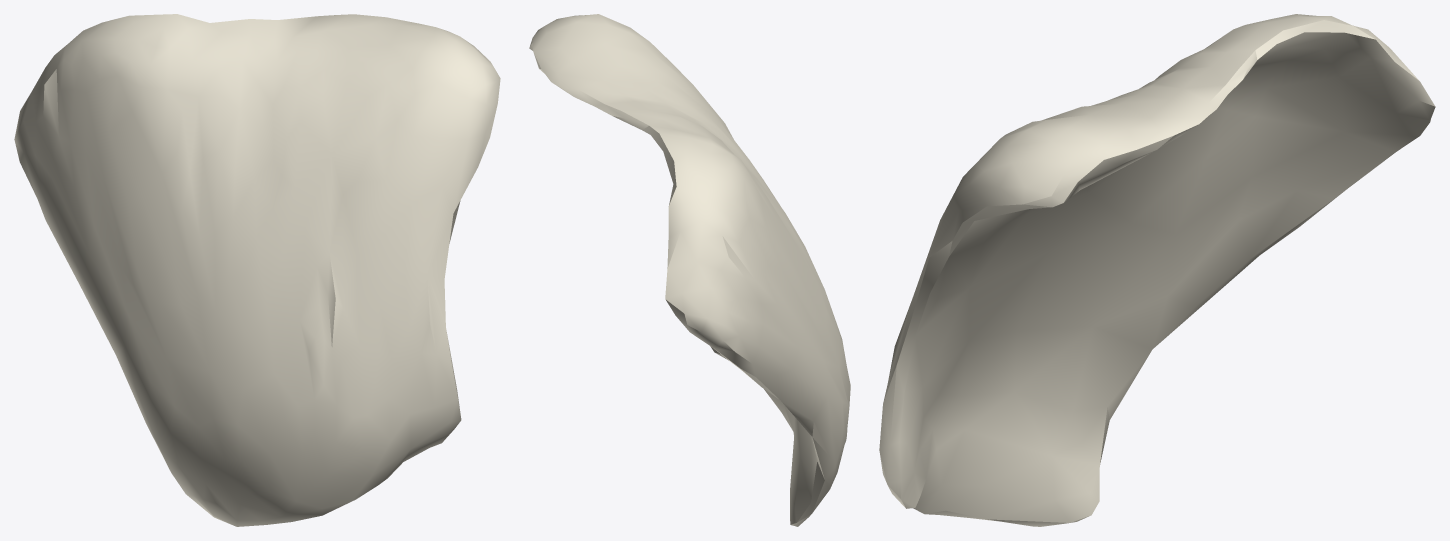
File: fma326794-r_mm1461m.glb
3 views of the same model, side by side, from view 1: azimuth 30°, elevation 25°; view 2: azimuth 150°, elevation 25°; view 3: azimuth 270°, elevation 25° (orthographic). The views are drawn at different scales.
Parts seen in each view (by area): view 1: FMA326794-R_MM1461M; view 2: FMA326794-R_MM1461M; view 3: FMA326794-R_MM1461M.
Boxes of the visible parts, left/top/right/bottom form: FMA326794-R_MM1461M: left=14, top=14, right=500, bottom=526; FMA326794-R_MM1461M: left=529, top=14, right=850, bottom=526; FMA326794-R_MM1461M: left=879, top=14, right=1435, bottom=526.
Bounding box in the file's own units: 0.00841 × 0.0104 × 0.01.
